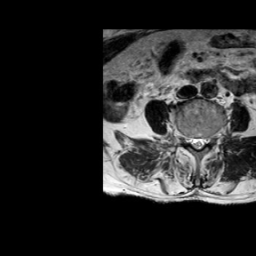CCS_stenosis: (194, 128, 200, 157)
LFS_normal: (206, 127, 214, 150)
LLS_normal: (200, 129, 206, 151)
RFS_normal: (181, 127, 188, 151)
RLS_normal: (188, 128, 194, 151)
